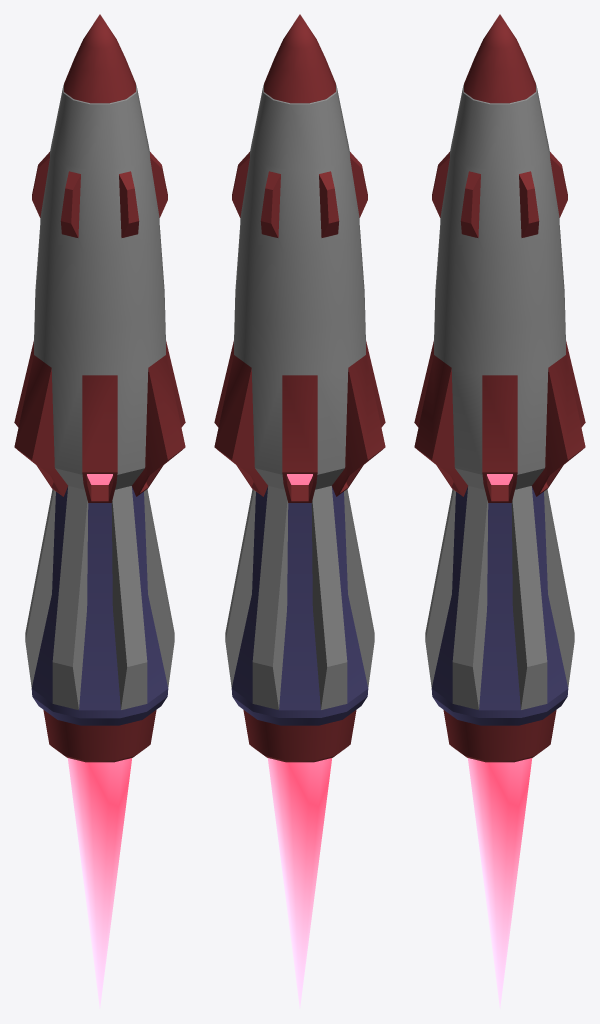
File: missile.fbx
3 views of the same model, side by side, from view 1: azimuth 30°, elevation 25°; view 2: azimuth 150°, elevation 25°; view 3: azimuth 270°, elevation 25° (orthographic).
Visible parts, largest first — view 1: Cylinder; view 2: Cylinder; view 3: Cylinder.
Boxes of the visible parts, x1,y1,x2,y2 form: Cylinder: (14,14,185,1008); Cylinder: (214,14,385,1008); Cylinder: (414,14,585,1008).
Size of the model in its own units: 35.18 by 218 by 33.97.
